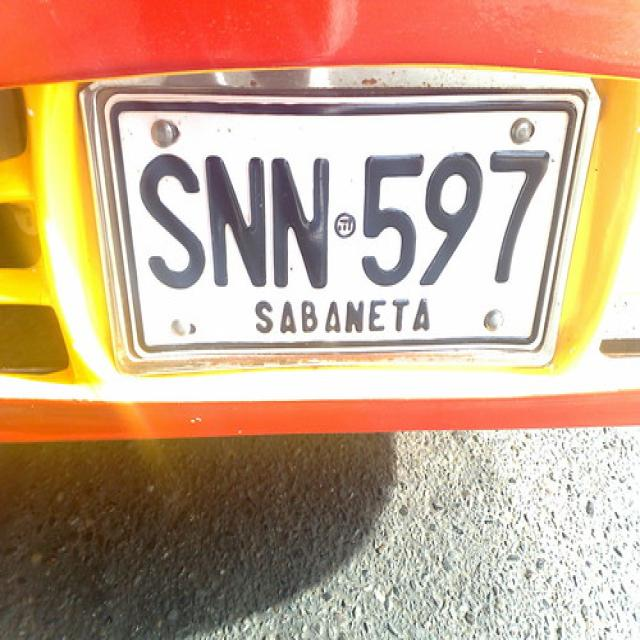placas: (124, 137, 562, 298)
